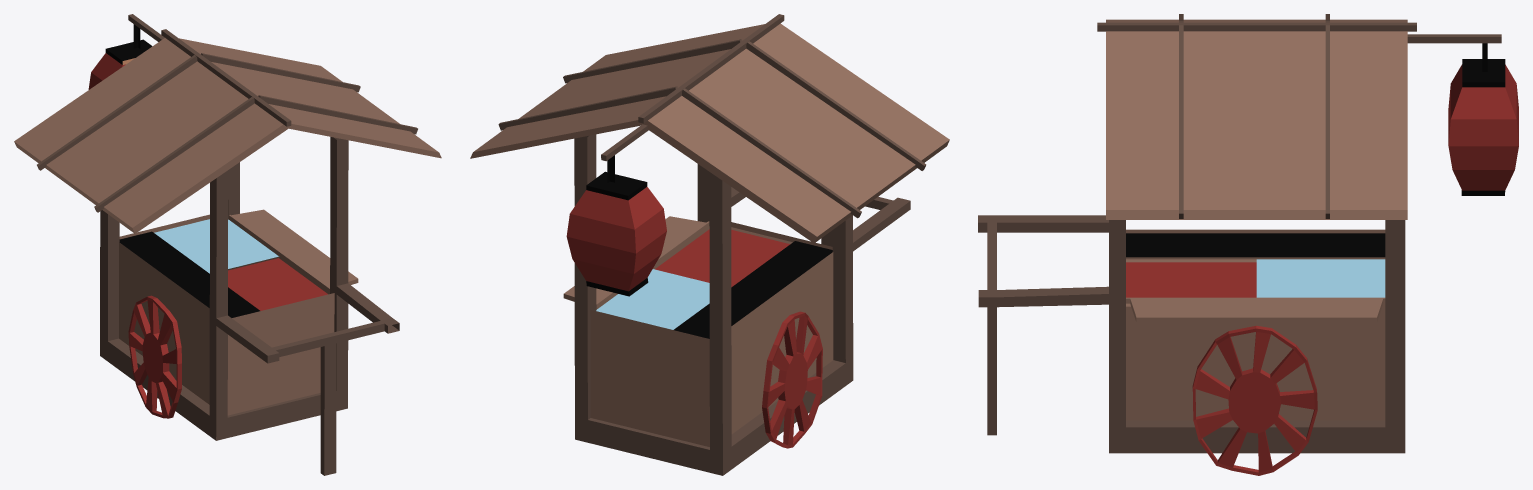
Rendered from 17_streetfood.fbx.
3 views of the same model, side by side, from view 1: azimuth 30°, elevation 25°; view 2: azimuth 150°, elevation 25°; view 3: azimuth 270°, elevation 25° (orthographic). The views are drawn at different scales.
Visible parts, largest first — view 1: streetfood; view 2: streetfood; view 3: streetfood.
Part boxes in pixels (left/top/right/bottom): streetfood: left=14, top=14, right=441, bottom=475; streetfood: left=470, top=14, right=949, bottom=475; streetfood: left=978, top=14, right=1518, bottom=475.
Size of the model in its own units: 104 by 99.05 by 118.
